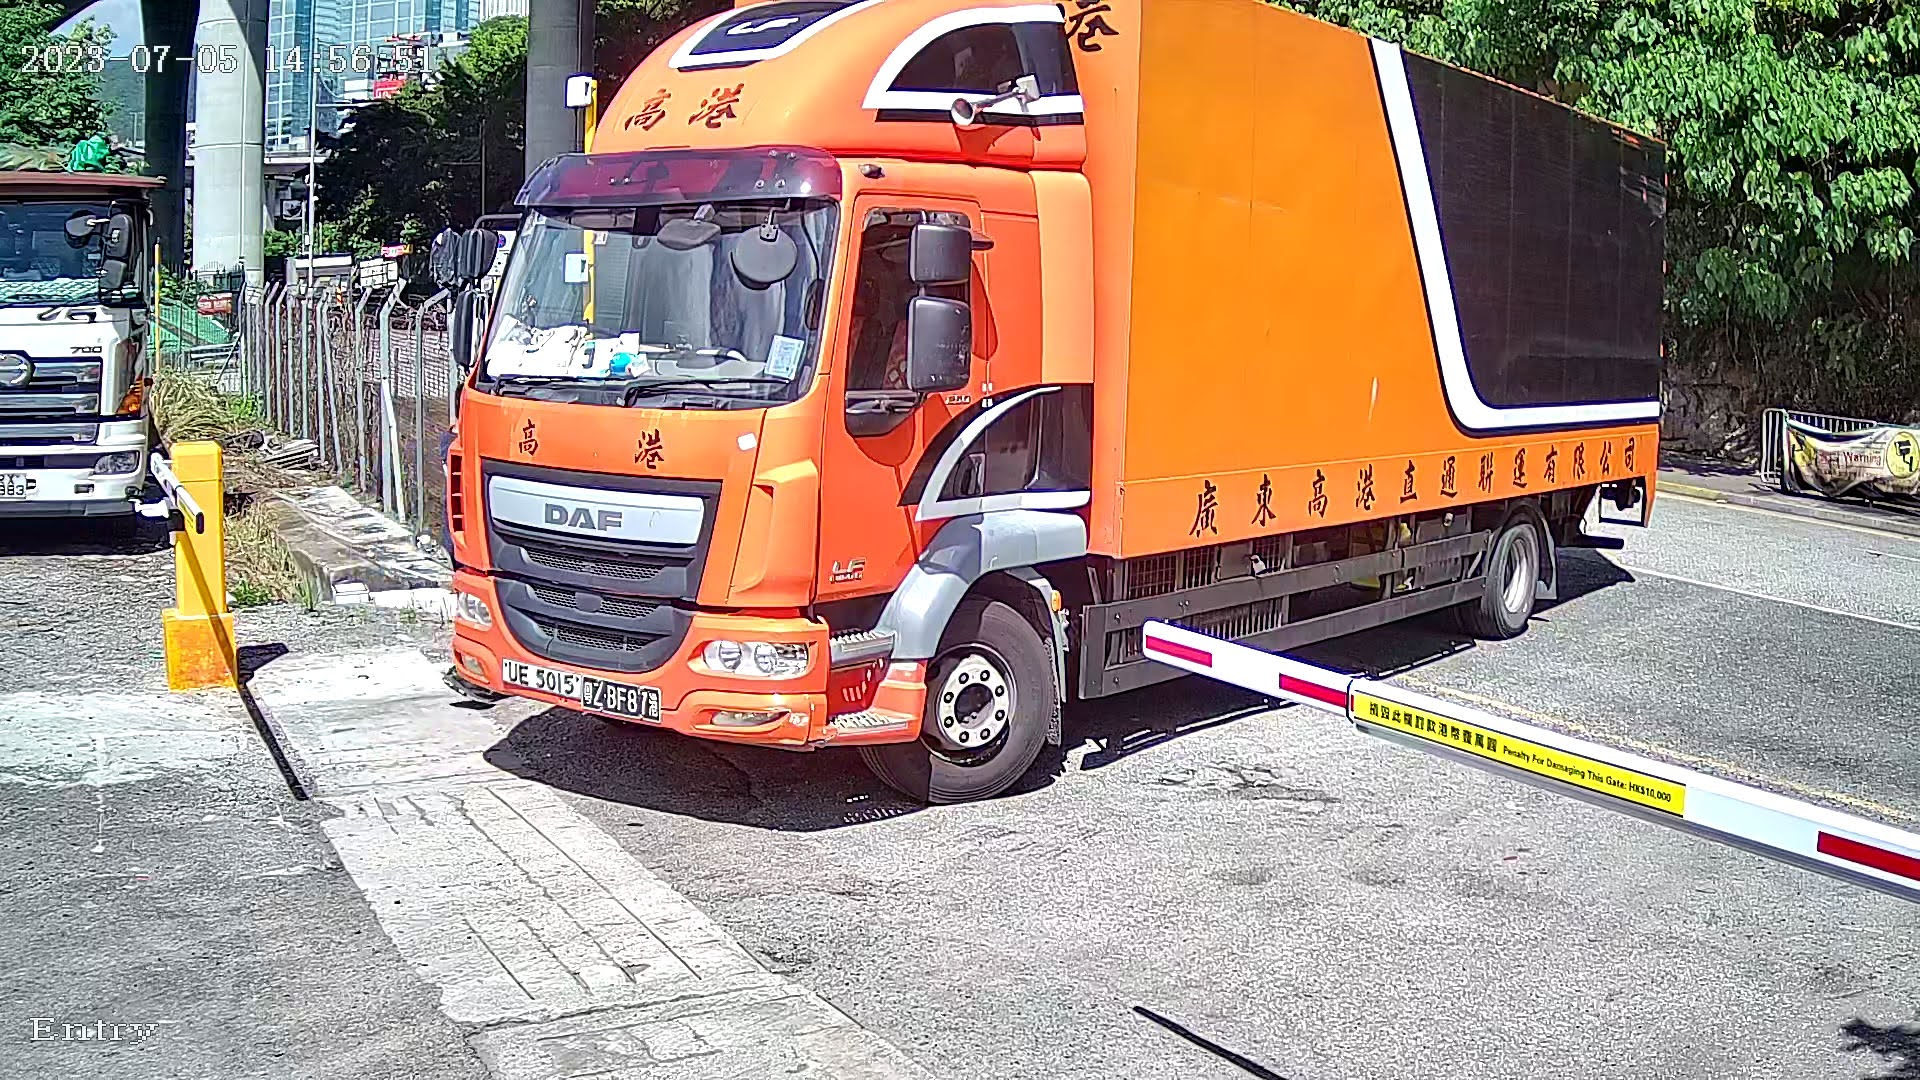truck: (388, 1, 1714, 810)
